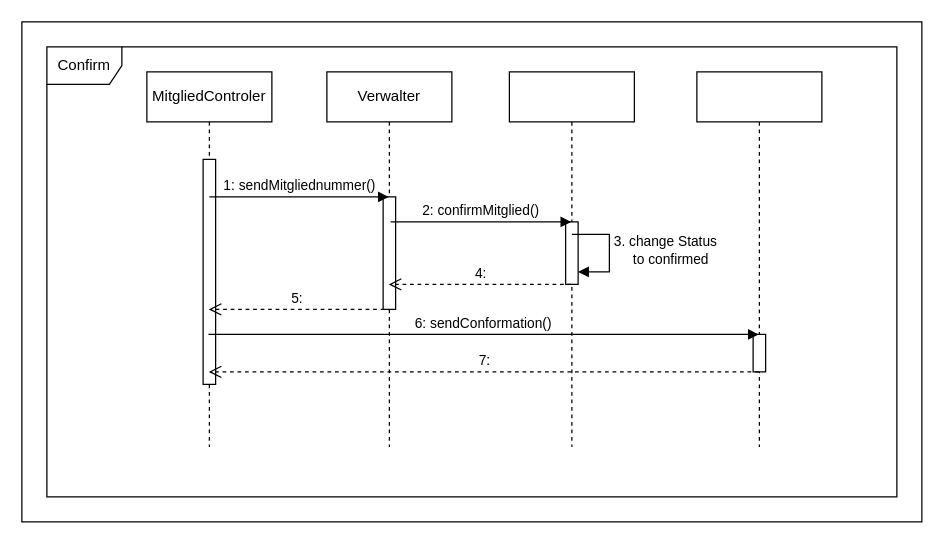
The diagram is 944 pixels wide and 544 high, and some of its shapes have lost their labels. Each missing label, with the box of its shape:
Mitglied-Management: (508, 71, 634, 447)
Nutzer: (696, 71, 822, 447)
